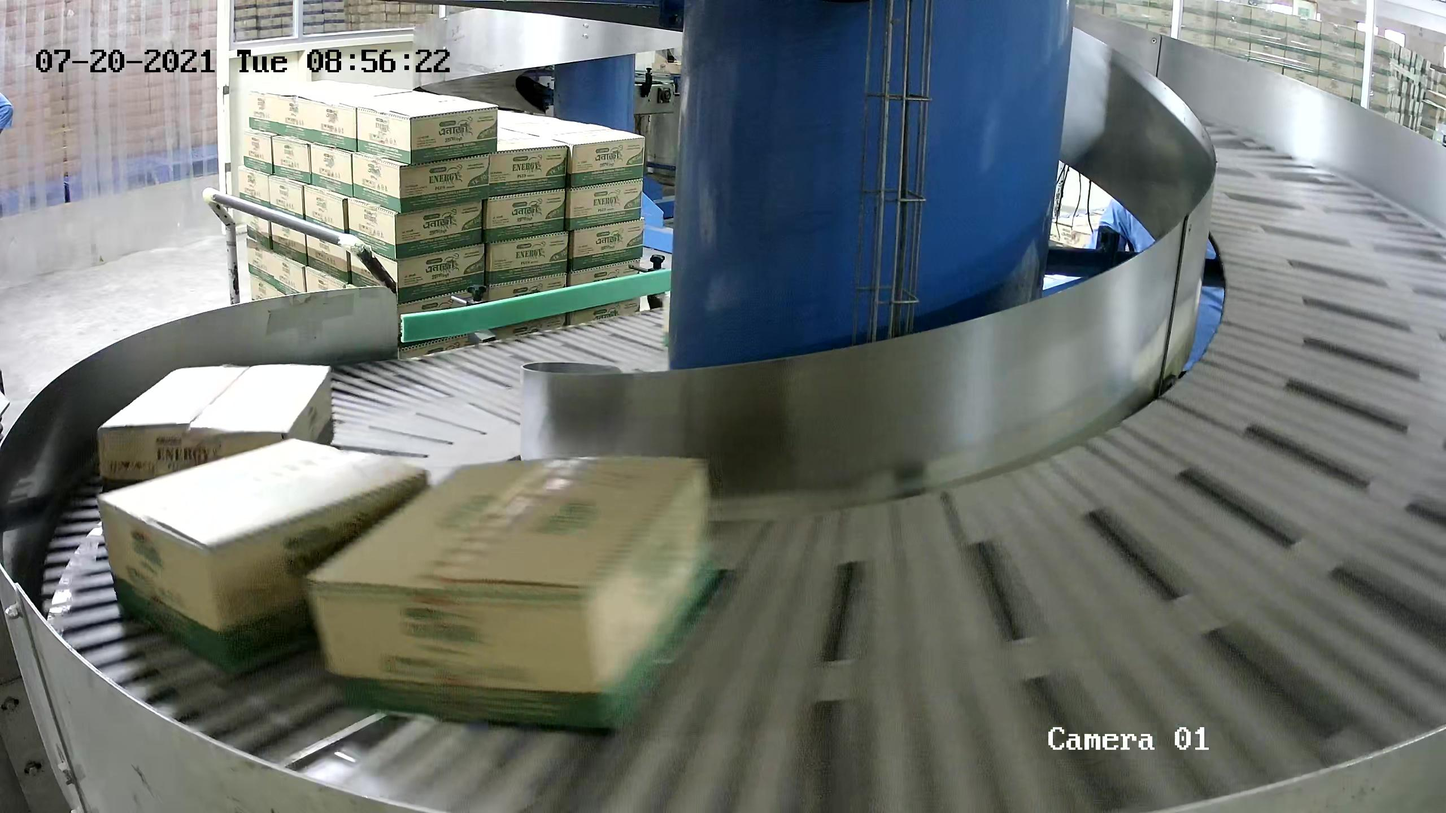Box: (302, 453, 719, 733), (94, 436, 430, 674), (96, 363, 336, 502)
